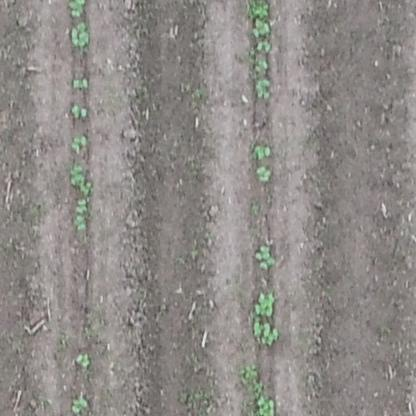vc: (252, 321, 283, 347), (69, 165, 95, 193), (254, 290, 279, 317), (254, 242, 278, 270), (68, 22, 90, 48), (71, 197, 88, 230), (255, 393, 278, 415), (254, 78, 275, 101), (70, 132, 89, 155), (252, 141, 273, 160), (256, 165, 275, 185), (252, 18, 272, 37), (69, 101, 90, 119), (70, 393, 88, 413), (71, 74, 90, 92), (67, 1, 88, 17), (254, 40, 272, 54), (74, 352, 90, 367), (253, 60, 268, 73)
